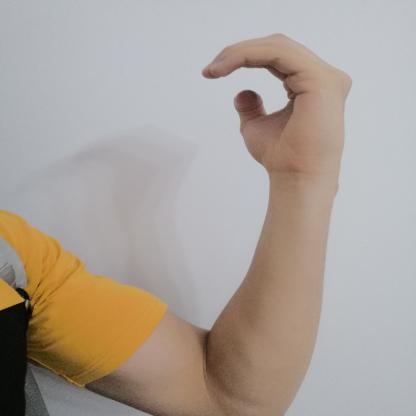JEEM: (188, 23, 373, 186)
